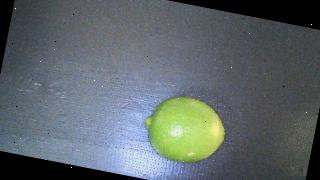EXPORTACION: (138, 90, 231, 170)
